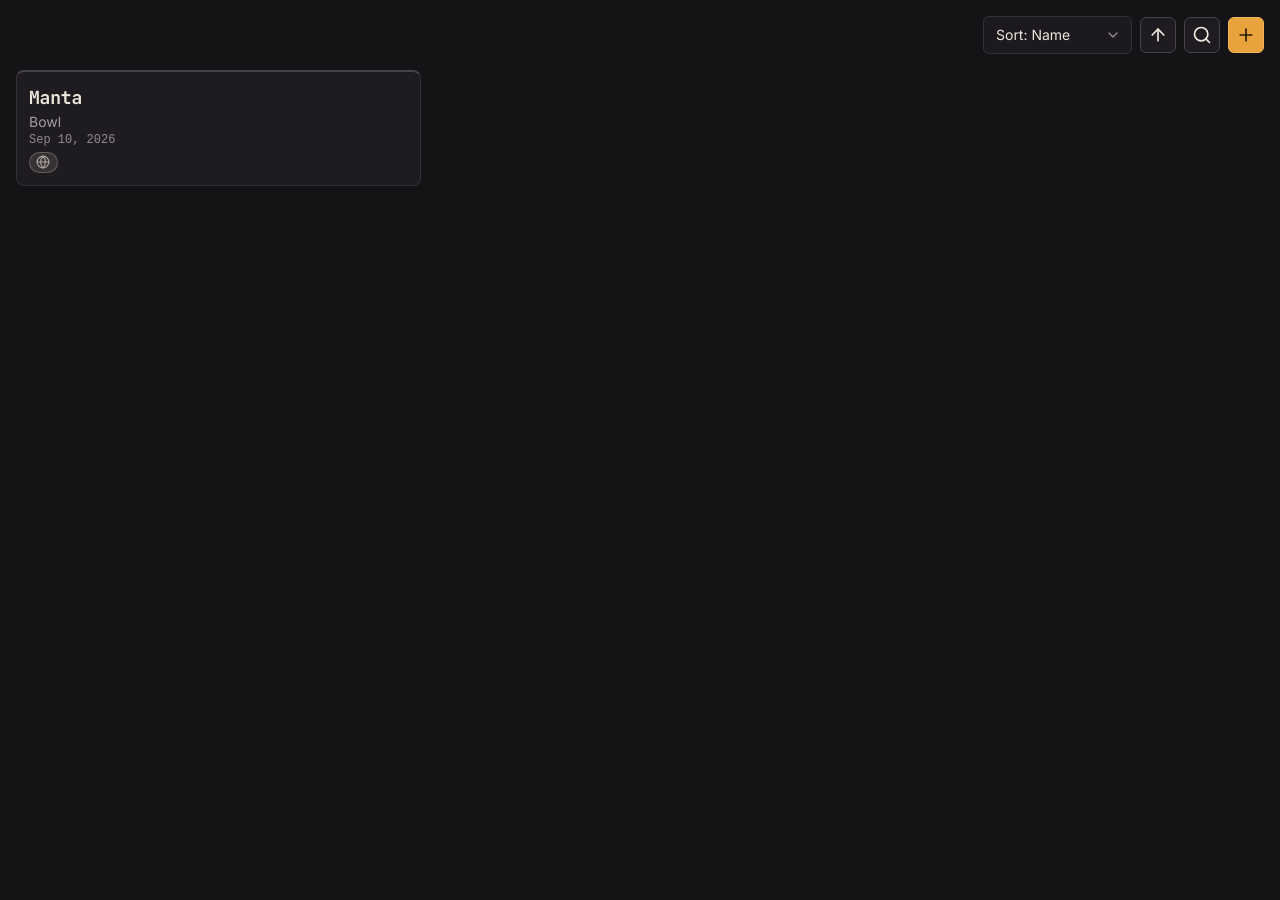
builds page › asks before closing a new build with unsaved edits
Step 1. Click the button named "Add build" → coordinates (1246, 35), box [1228, 17, 1264, 53]
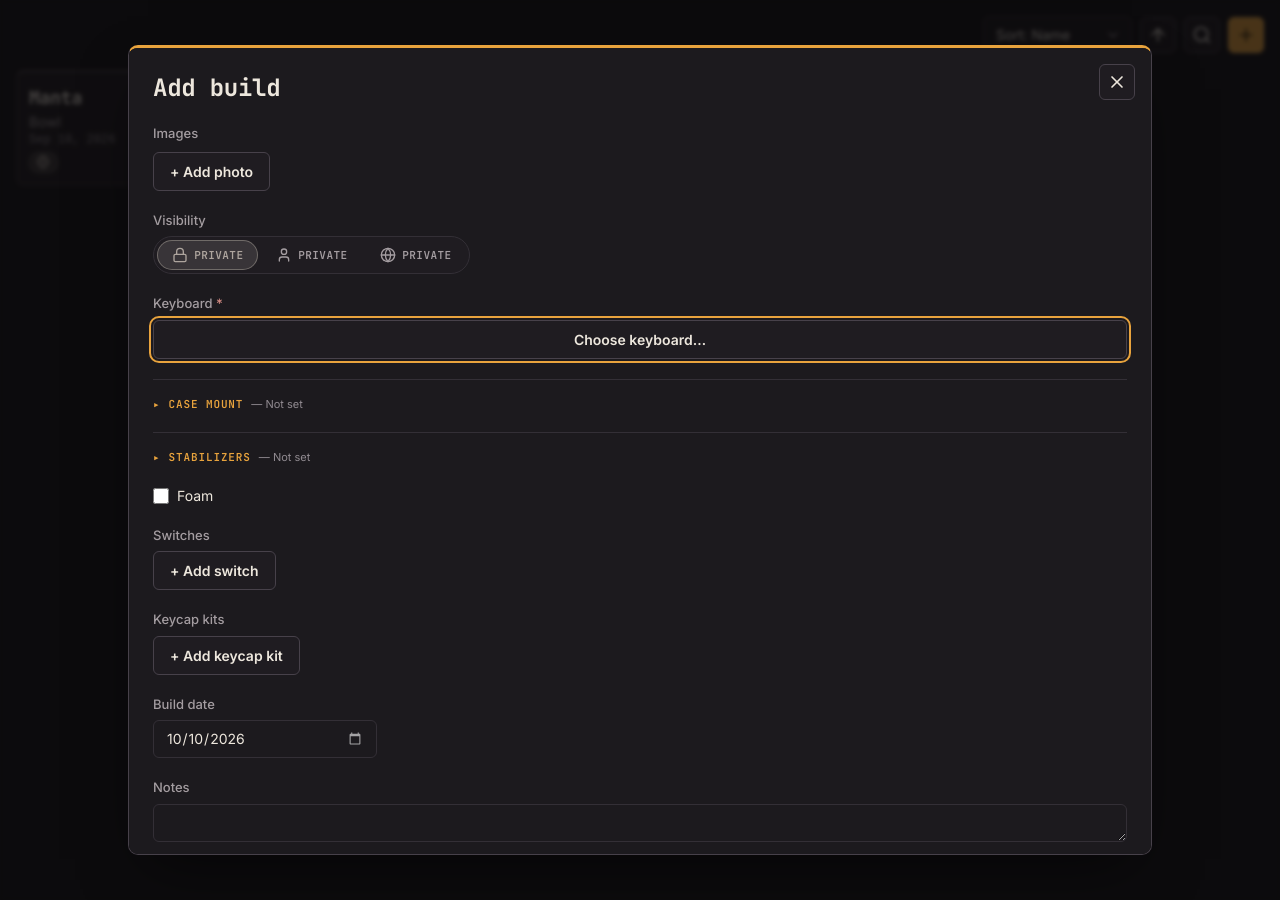
Step 2. Click the button "Choose keyboard…" → coordinates (640, 339), box [153, 320, 1127, 359]
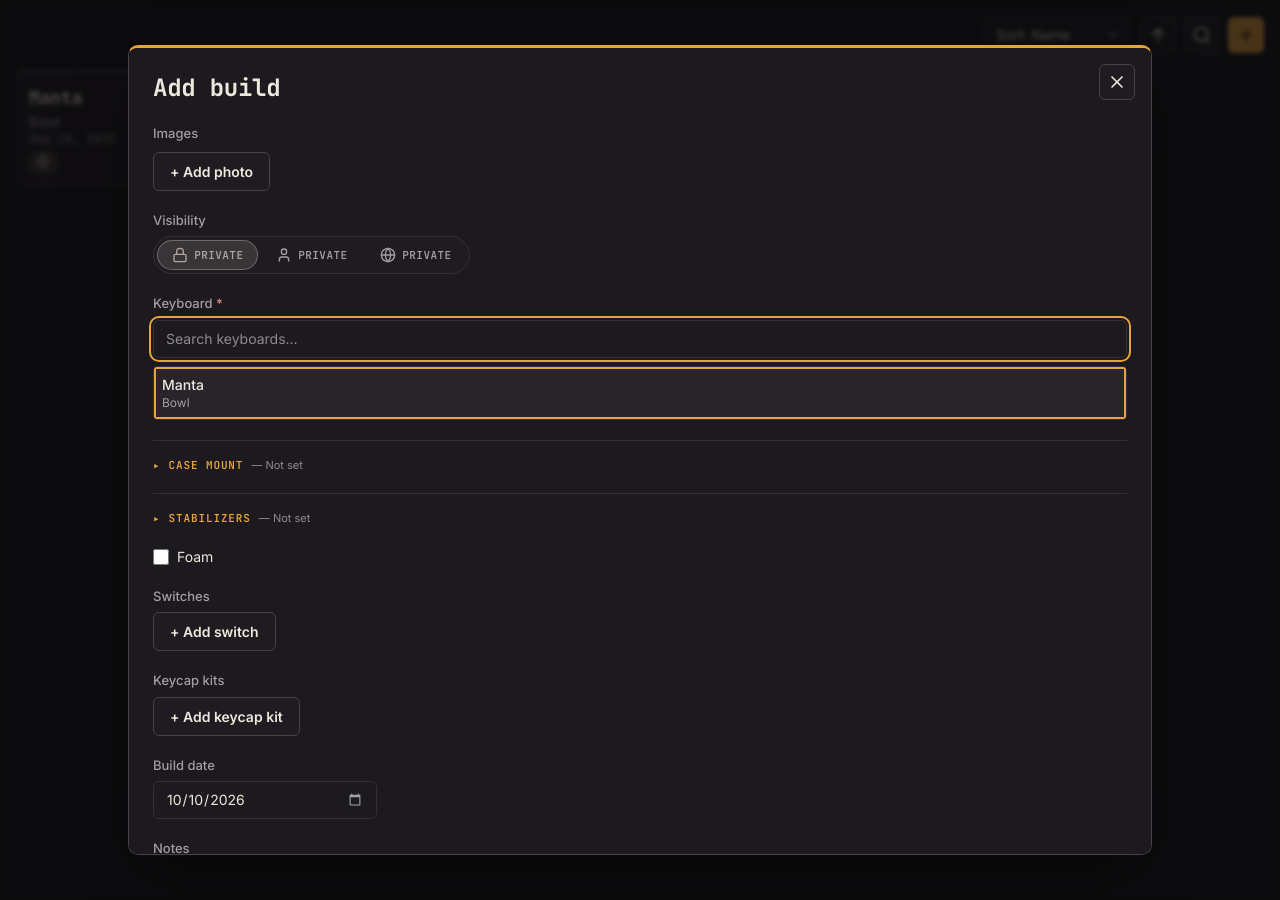
Step 3. Click the option "Manta Bowl" → coordinates (183, 384), box [154, 367, 1126, 419]
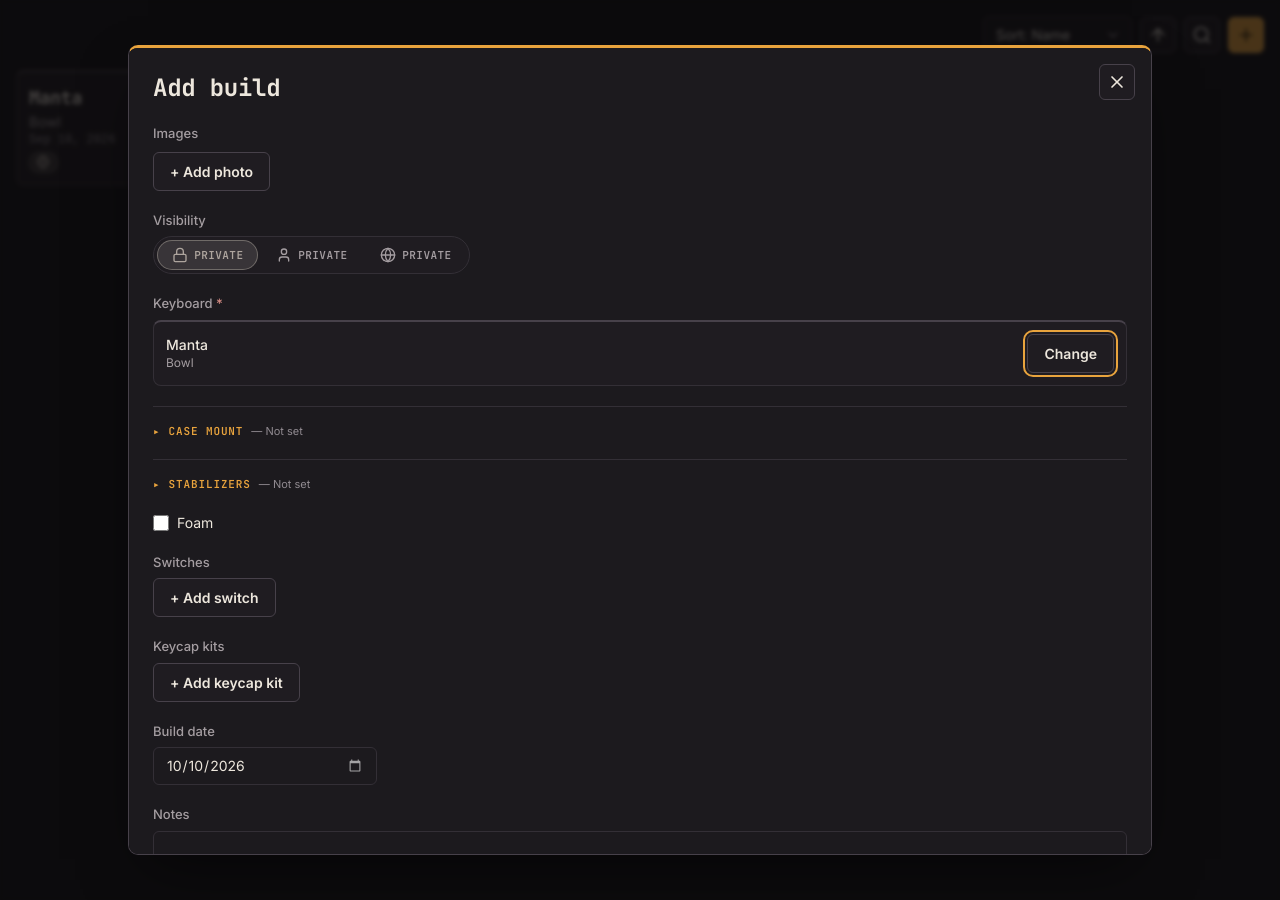
Step 4. Press Escape
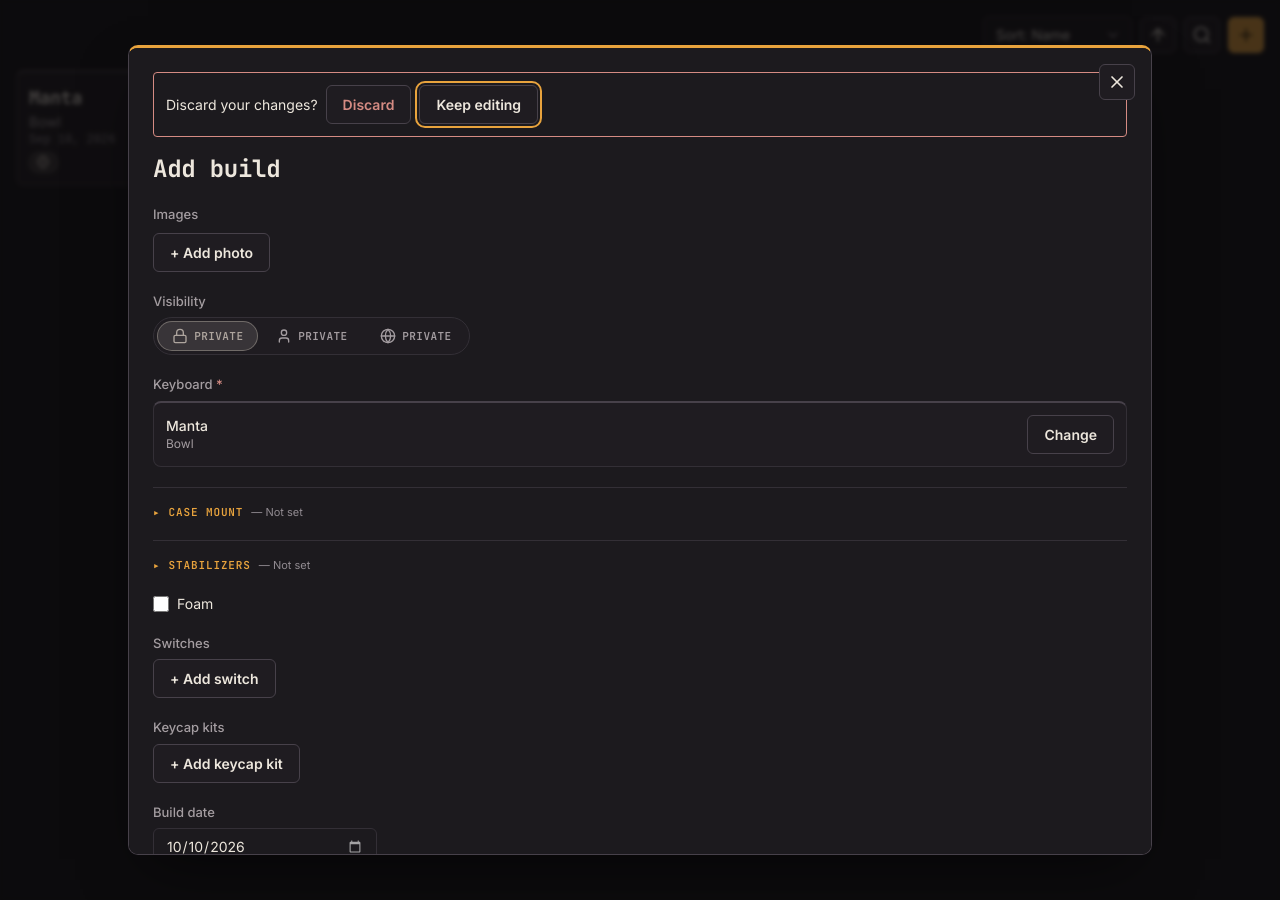
Expected: the message "Discard your changes?" is shown, [166, 94, 318, 114]
